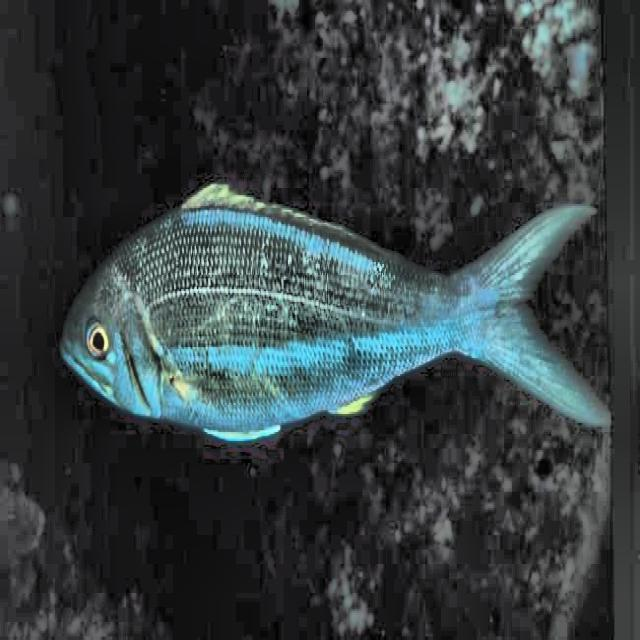fish: (60, 179, 611, 440)
